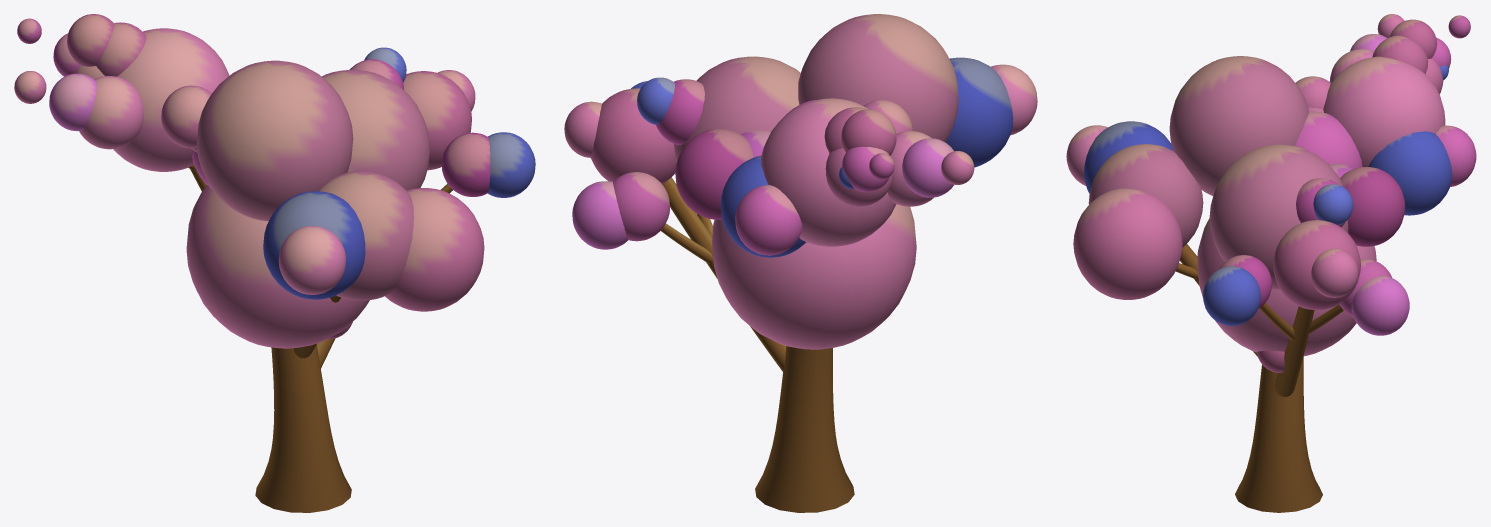
File: canopy-tree-233.obj
The picture shows the model from 3 angles, left to right: view 1: azimuth 30°, elevation 25°; view 2: azimuth 150°, elevation 25°; view 3: azimuth 270°, elevation 25°; orthographic projection. The views are drawn at different scales.
Parts seen in each view (by area): view 1: tree; view 2: tree; view 3: tree.
Boxes of the visible parts, <box> form: tree: <box>14,14,535,512</box>; tree: <box>564,14,1037,512</box>; tree: <box>1066,14,1476,512</box>.
Bounding box in the file's own units: 486 × 497 × 447.
